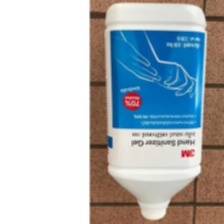cleaning_solution: (102, 0, 210, 221)
